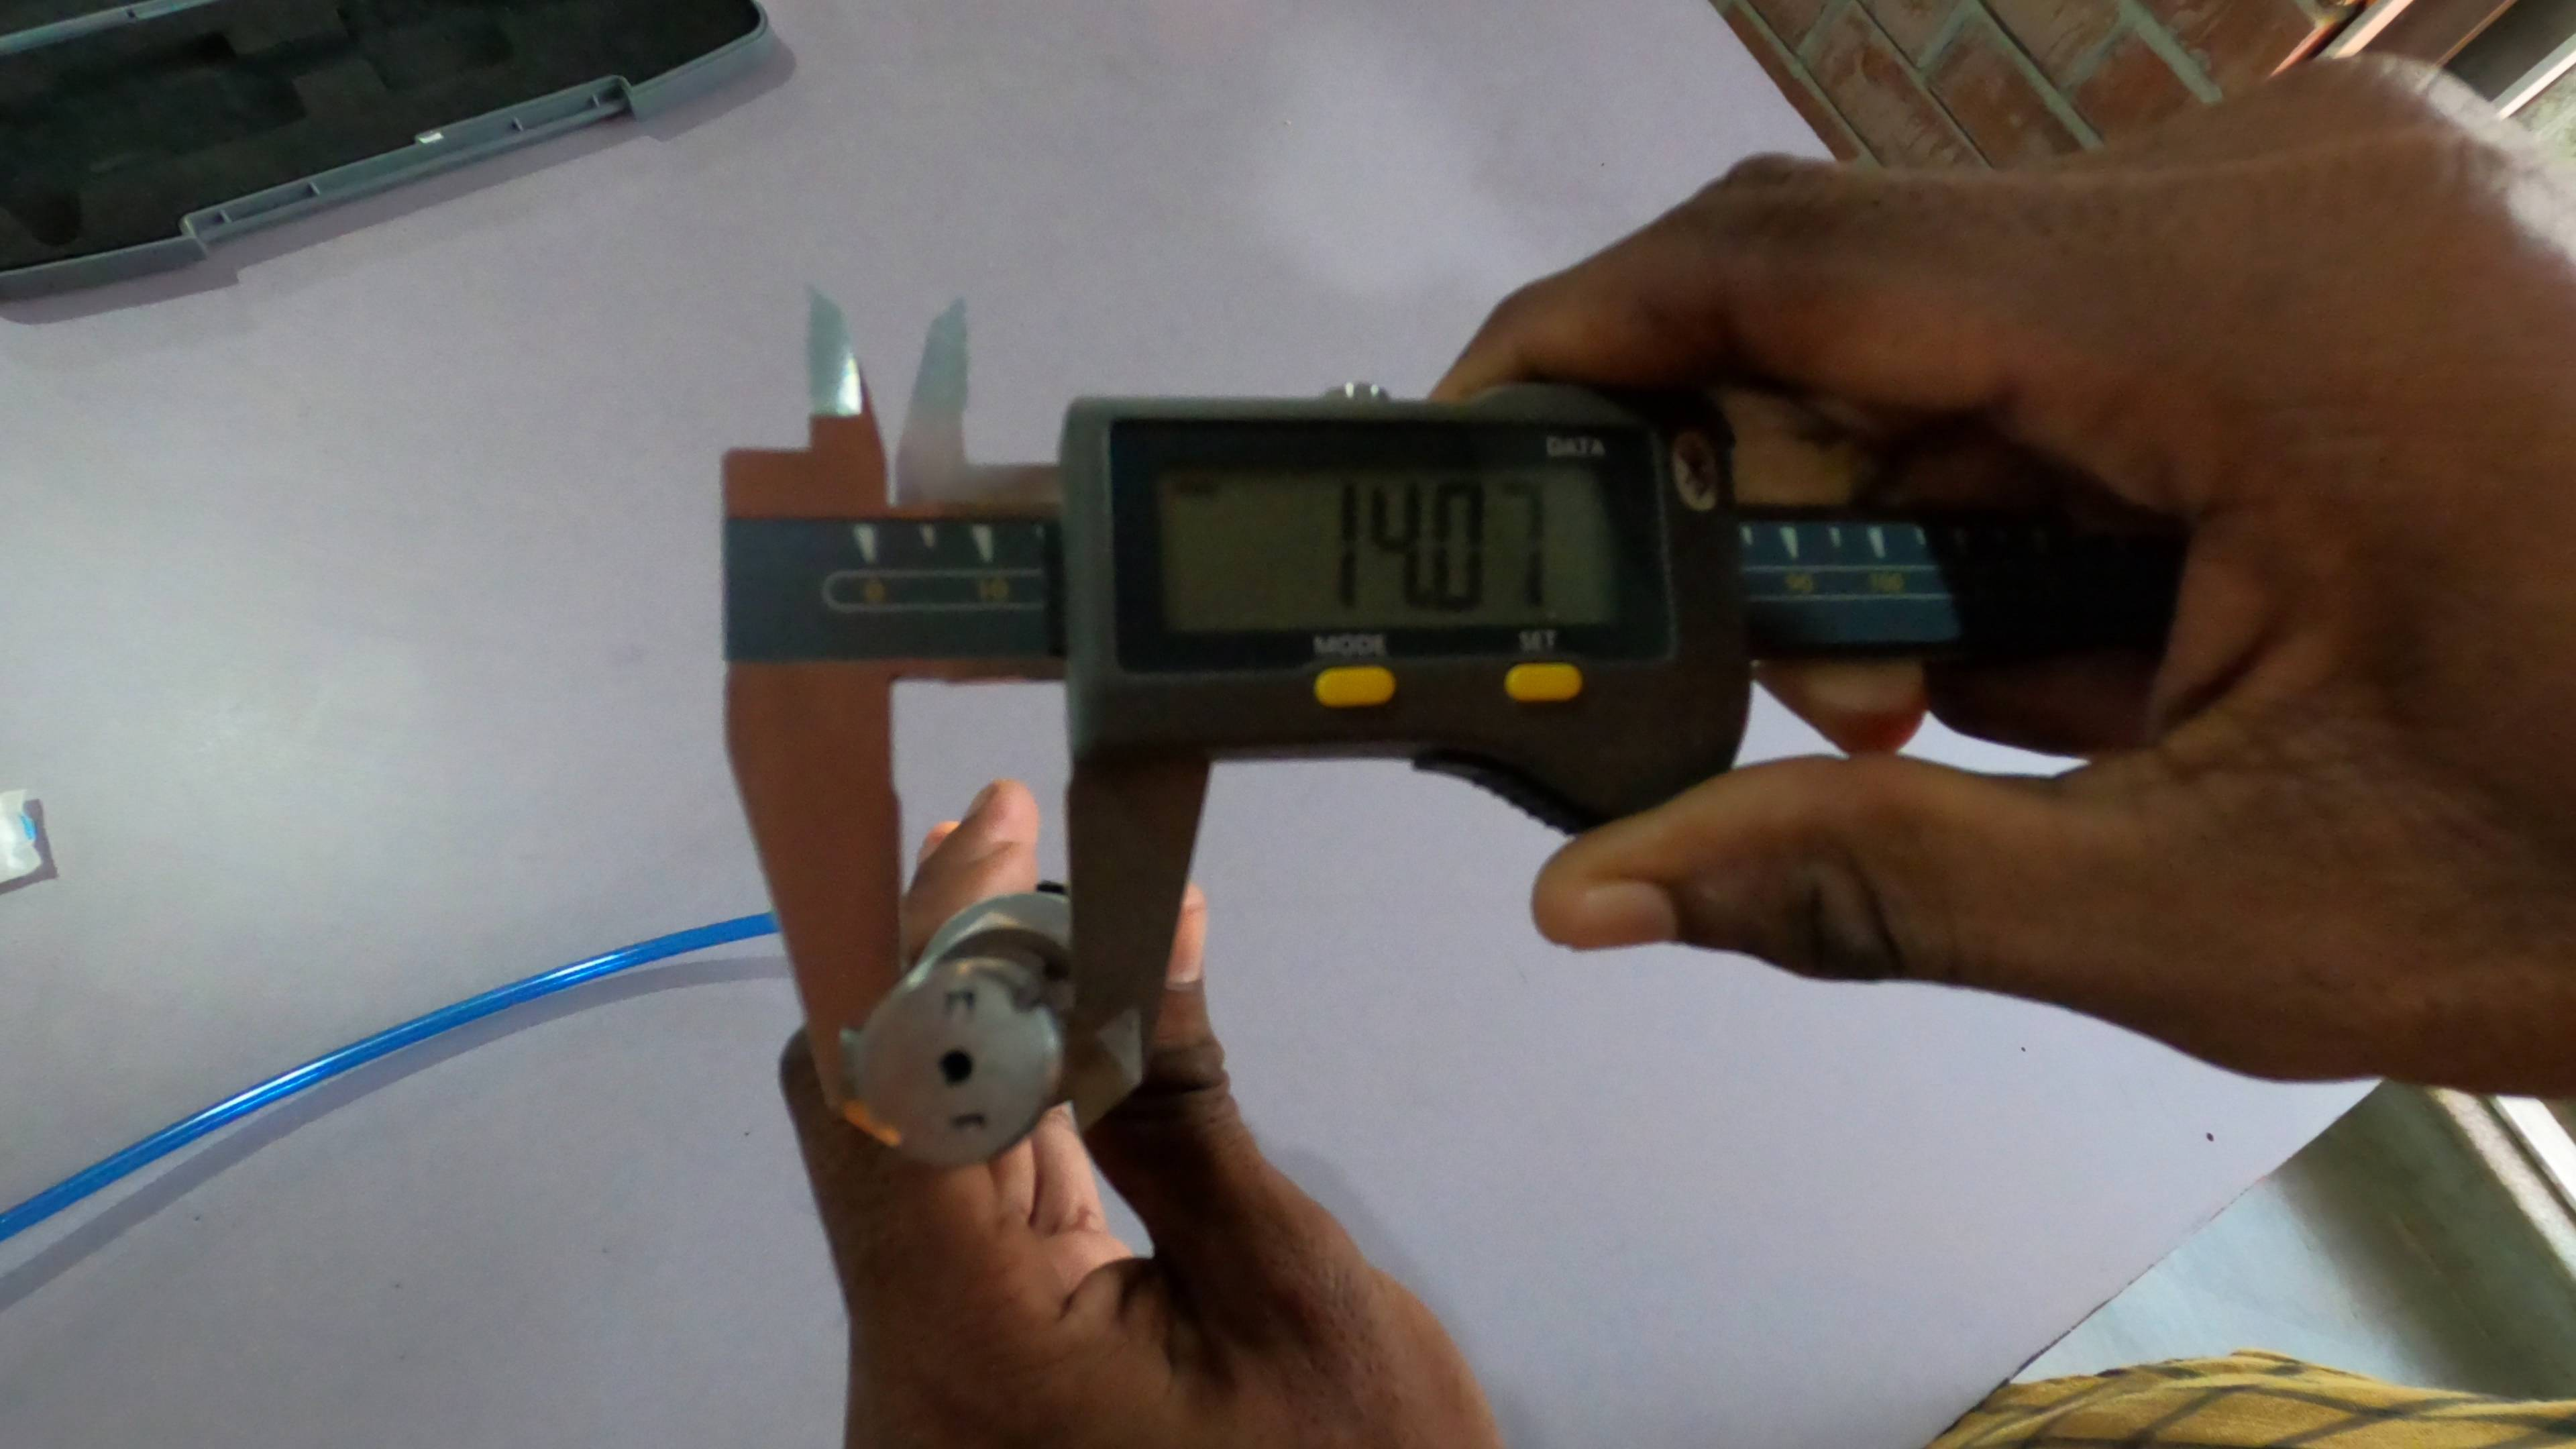vernier_caliper: (718, 288, 2151, 1171)
